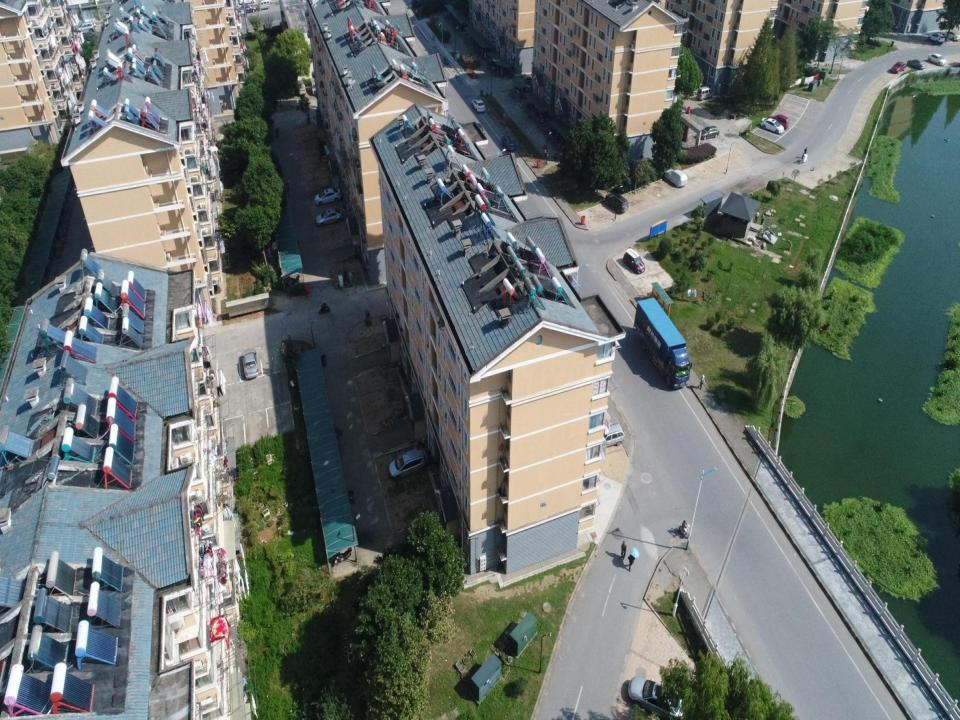car: (629, 675, 684, 719), (388, 449, 426, 480), (315, 207, 344, 228), (623, 248, 645, 274), (314, 187, 342, 206), (605, 192, 628, 214), (242, 348, 258, 379), (665, 168, 688, 188), (760, 118, 785, 134), (696, 125, 720, 140), (768, 114, 790, 129), (926, 31, 946, 46), (500, 135, 517, 152), (926, 52, 946, 66), (907, 58, 926, 70), (891, 61, 907, 74), (944, 29, 960, 42), (472, 98, 486, 112)
truck: (634, 297, 693, 388)
van: (593, 423, 625, 450), (696, 86, 714, 101)
